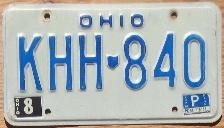0: (181, 31, 206, 89), (182, 32, 207, 88)
4: (152, 31, 179, 89)
8: (121, 32, 149, 91)
H: (77, 32, 103, 93), (47, 33, 73, 93)
K: (15, 34, 45, 93)
